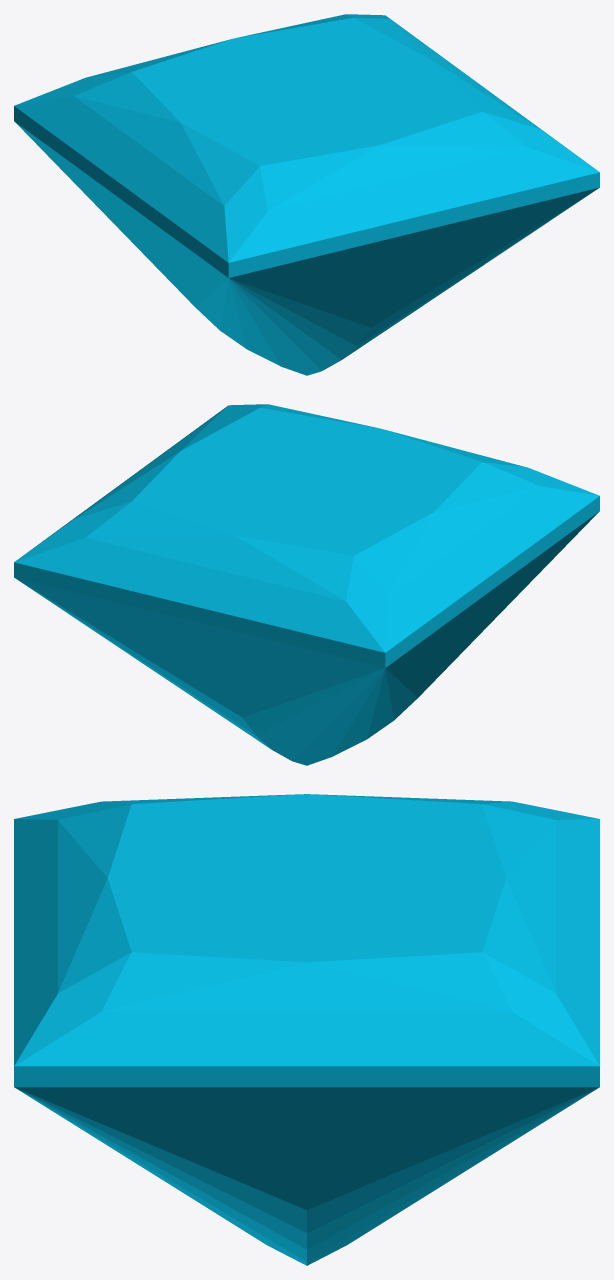
The model's file is Head_No Halo_Princess_1.0ct_Diamond.glb.
3 renders of one model, top to bottom at view 1: azimuth 30°, elevation 25°; view 2: azimuth 150°, elevation 25°; view 3: azimuth 270°, elevation 25°, orthographic. The views are drawn at different scales.
Bounding box in the file's own units: 0.00514 × 0.00375 × 0.00514.
